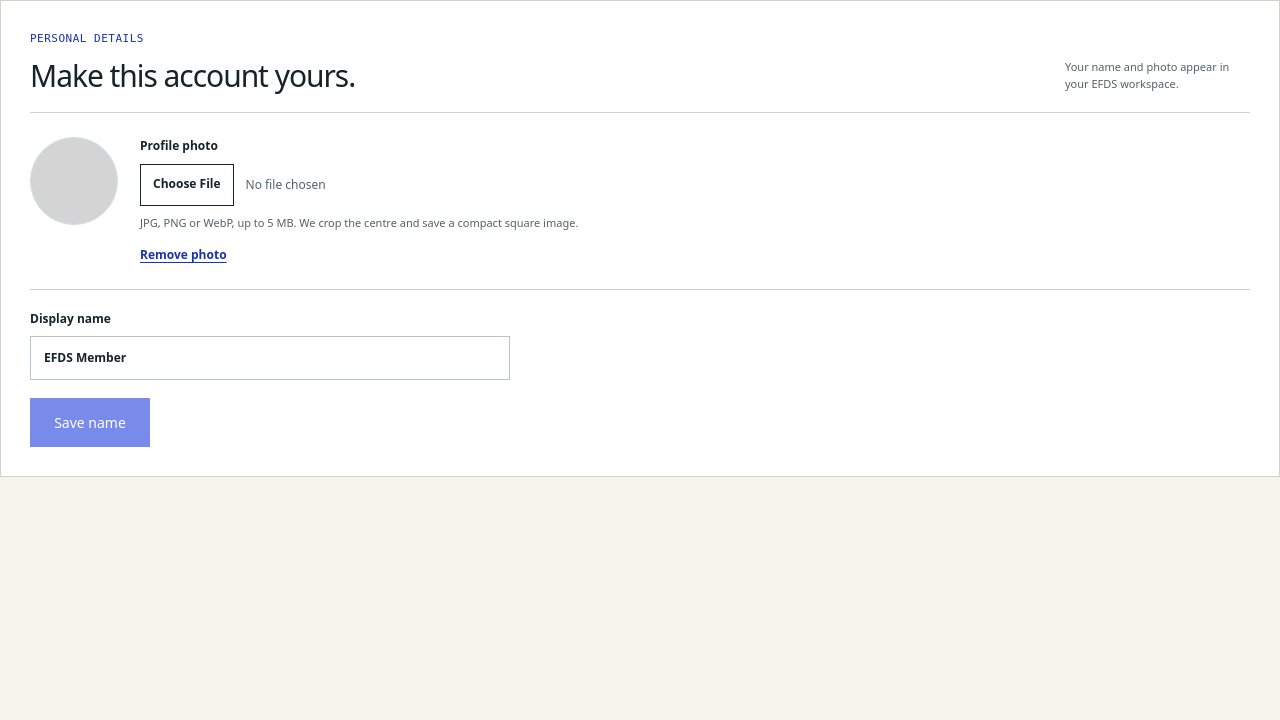
Test: profile editing › saves the member's display name through their profile and refreshes the workspace
The width and height of the screenshot is (1280, 720).
Replace the text in the field labelled "Display name" with "  New   Name  ": (270, 358) x1=30 y1=336 x2=510 y2=380
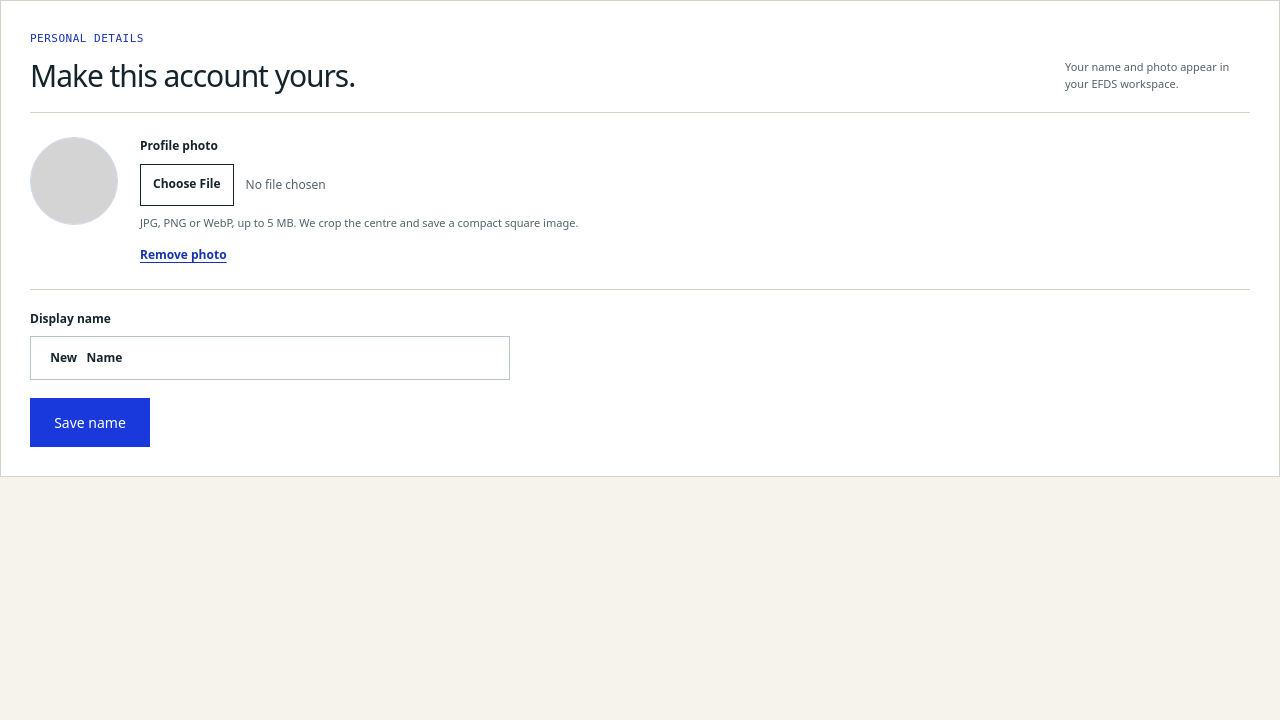
Click the button "Save name": (90, 423) x1=30 y1=398 x2=150 y2=448
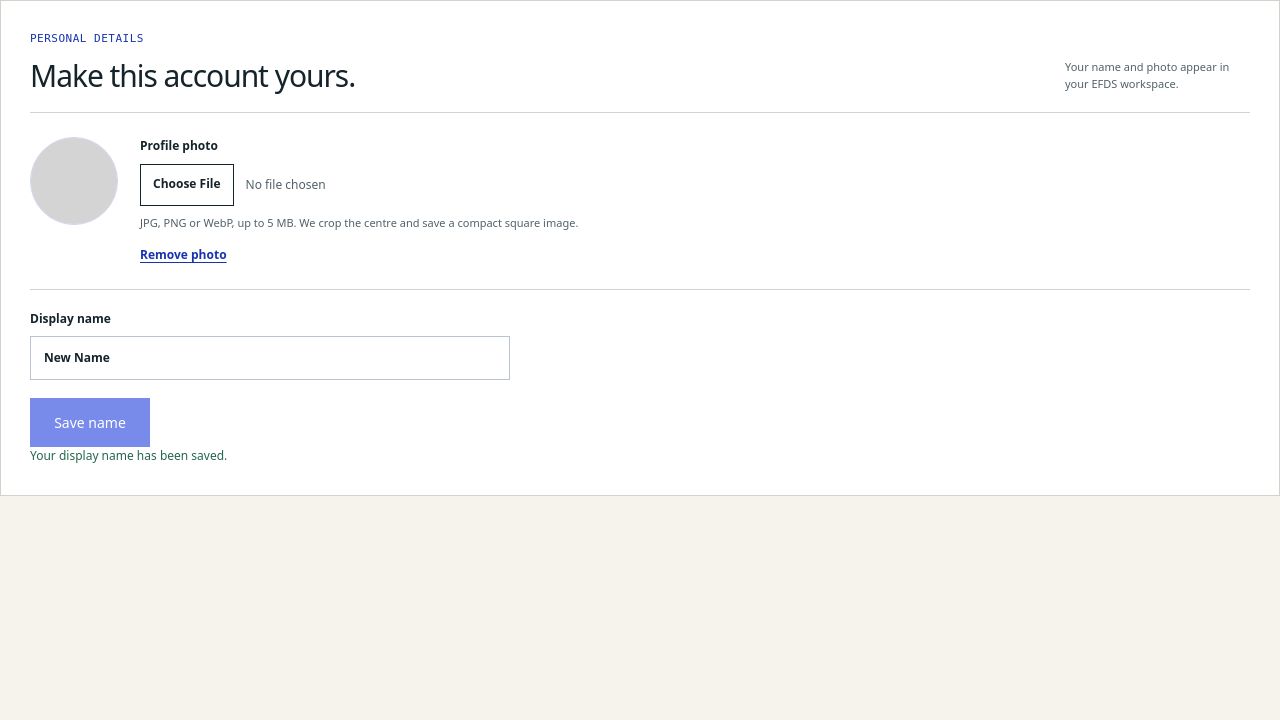
Expected: the text "Your display name has been saved." is shown, x1=30 y1=448 x2=227 y2=464
